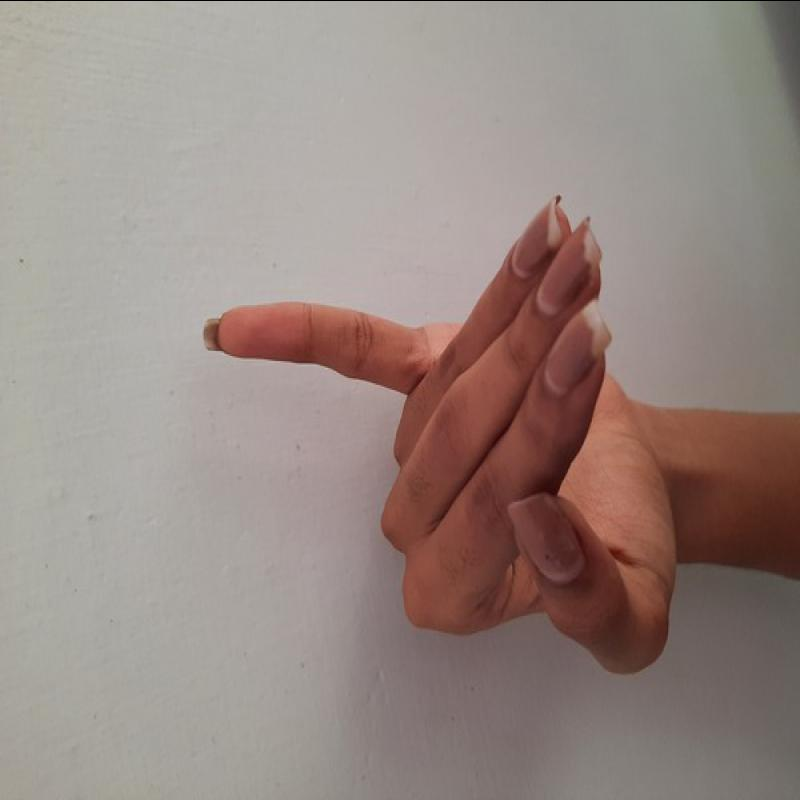Kartharee Mukham: (185, 188, 689, 684)
